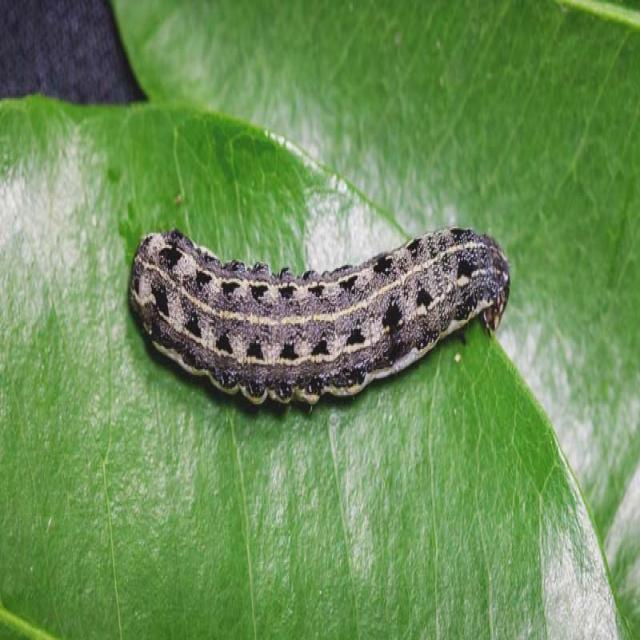Cutworm: (127, 214, 526, 416)
